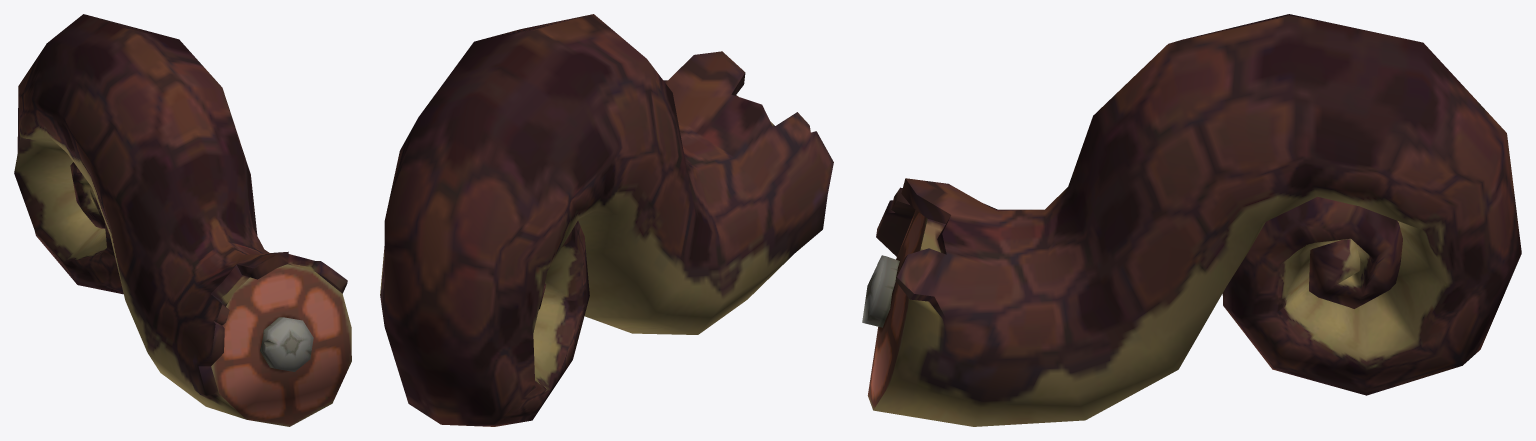
File: Item_Enemy_41.glb
The picture shows the model from 3 angles, left to right: view 1: azimuth 30°, elevation 25°; view 2: azimuth 150°, elevation 25°; view 3: azimuth 270°, elevation 25°; orthographic projection. The views are drawn at different scales.
Parts seen in each view (by area): view 1: Item_Enemy_41; view 2: Item_Enemy_41; view 3: Item_Enemy_41.
Boxes of the visible parts, bbox=[...] form: Item_Enemy_41: bbox=[14, 14, 351, 426]; Item_Enemy_41: bbox=[380, 14, 833, 426]; Item_Enemy_41: bbox=[862, 14, 1521, 426].
Size of the model in its own units: 0.3558 by 0.6337 by 0.9731.
1 material, 1 textured.
